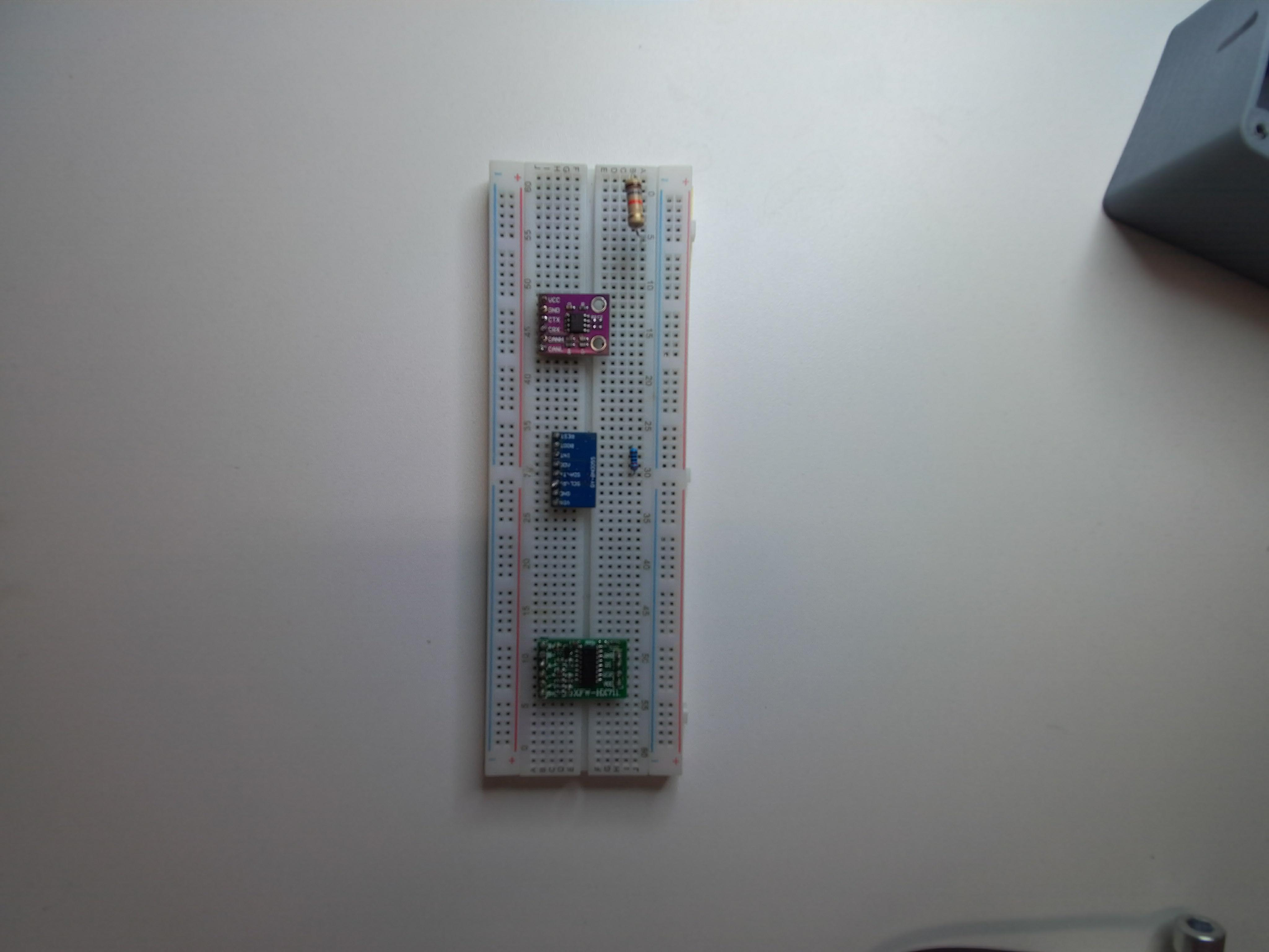base: (483, 156, 696, 797)
blue-board: (547, 428, 597, 515)
green-board: (533, 634, 631, 706)
purple-board: (534, 293, 612, 363)
resistor-big: (623, 175, 646, 227)
resistor-small: (627, 444, 640, 475)
